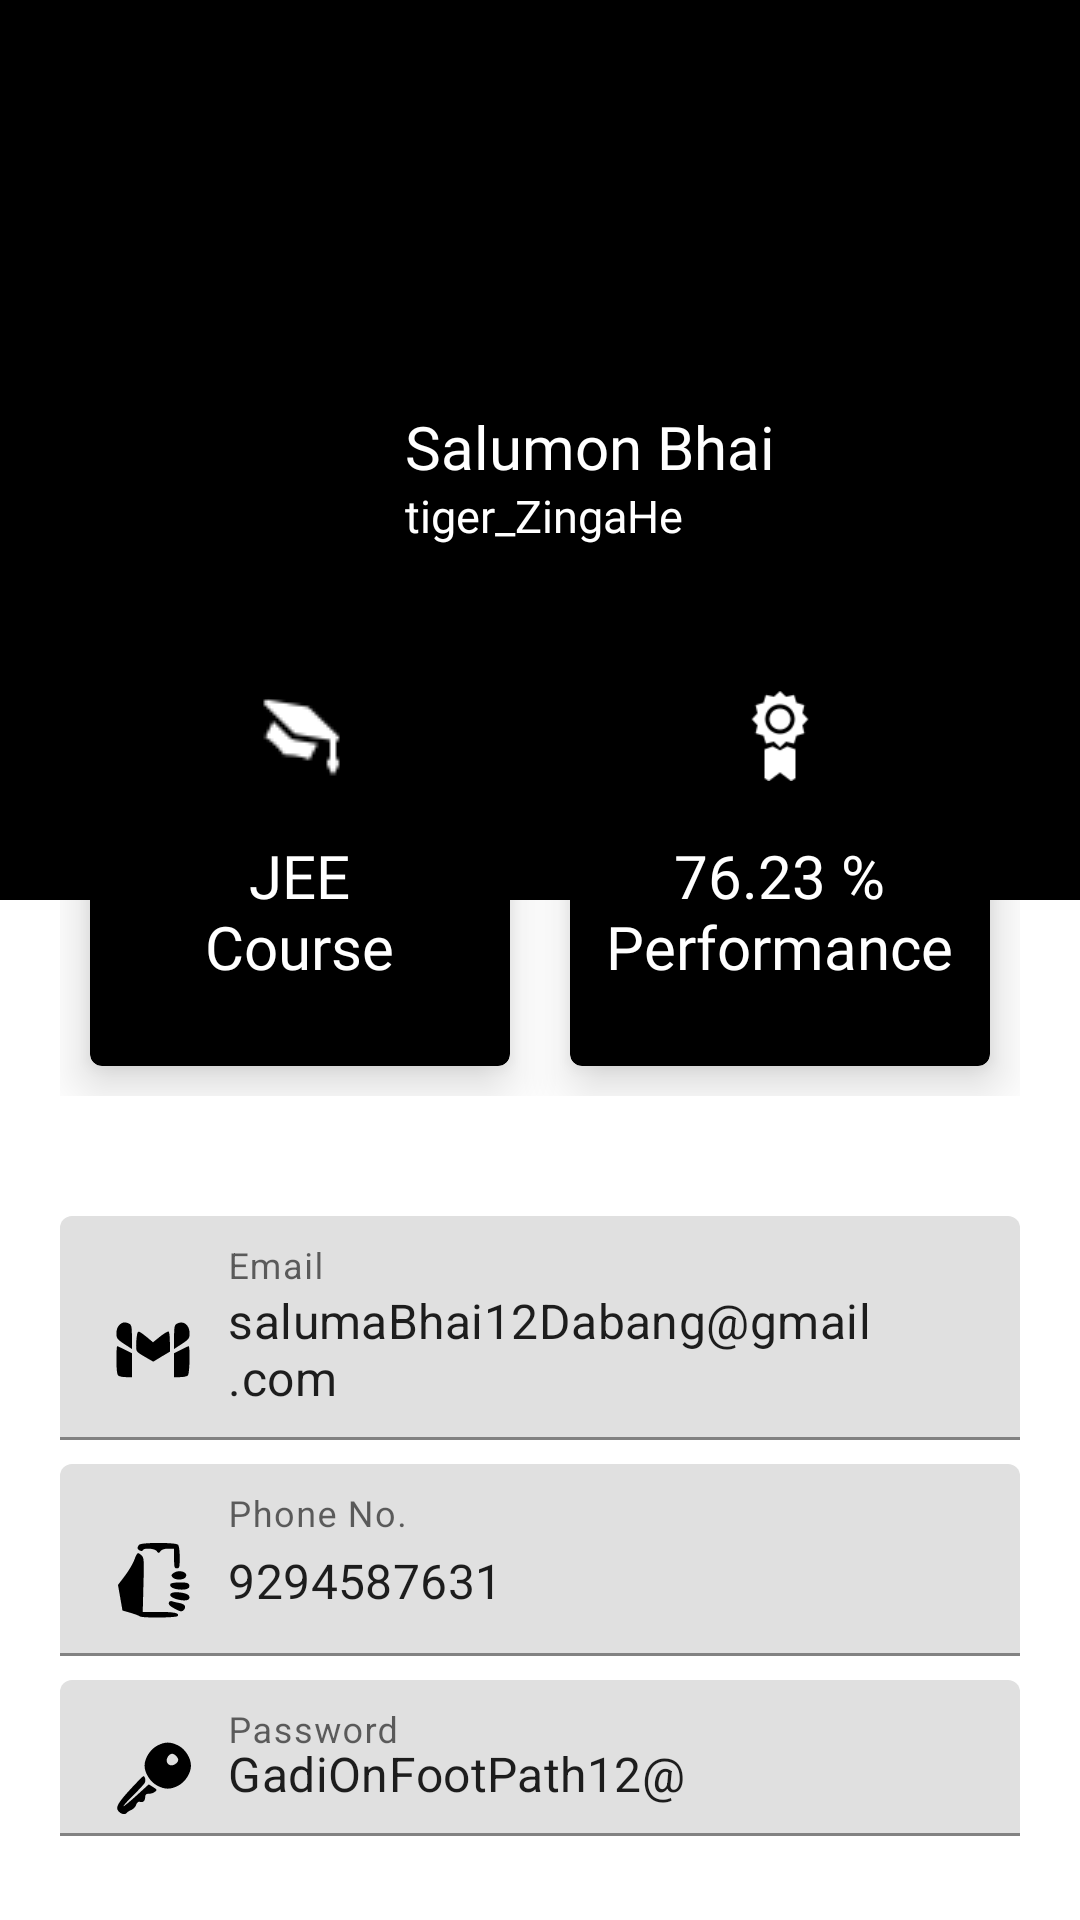

Where to tap for icons on this 1080*1920 app screen, as point (x, y):
degree: point (301, 737)
